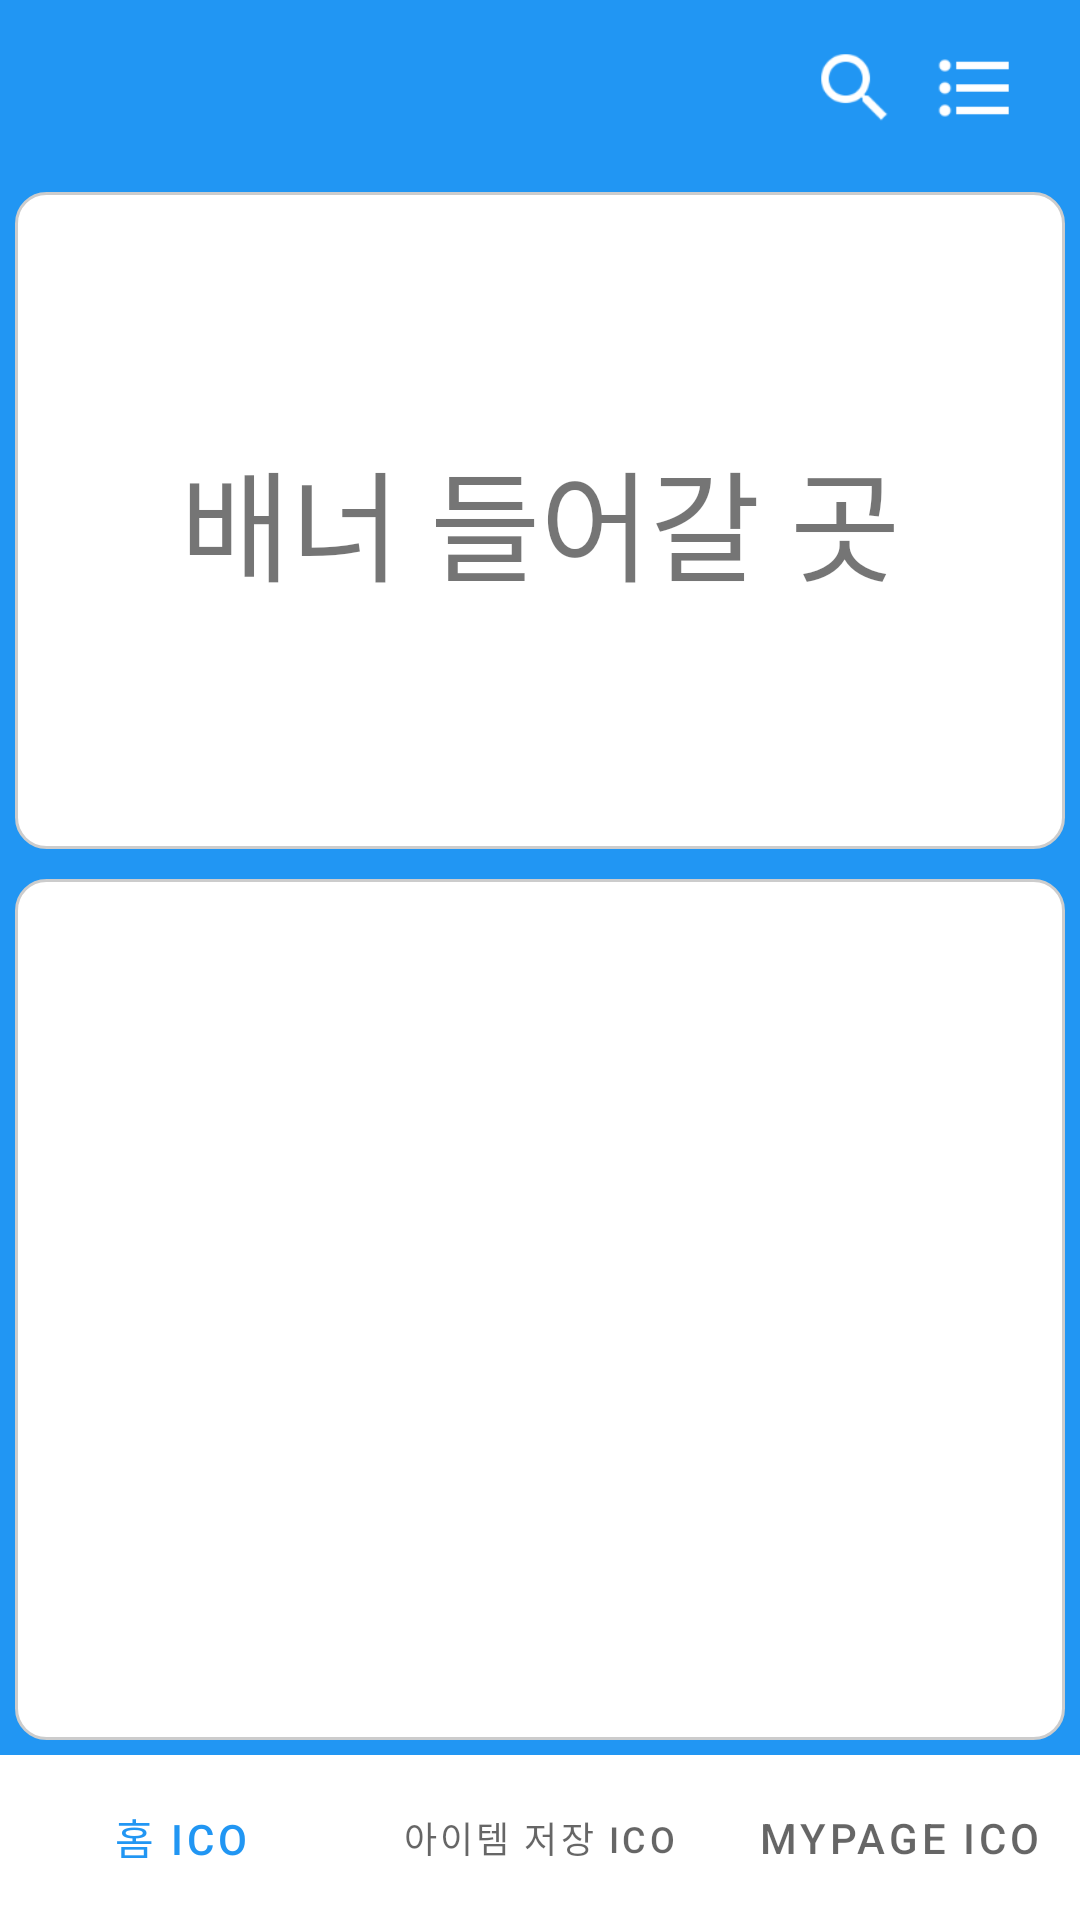

Screen size 1080 × 1920. Icon name, then its center in pixels as (x=x, y=y):
format list bulleted: (x=973, y=88)
search: (x=854, y=87)
